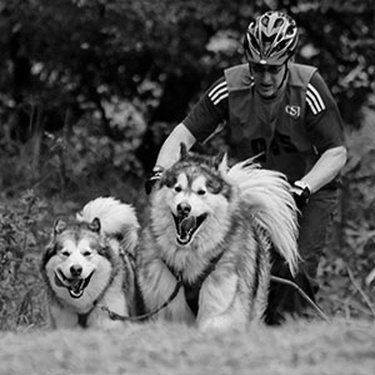dog: (132, 137, 301, 327), (38, 185, 141, 327)
